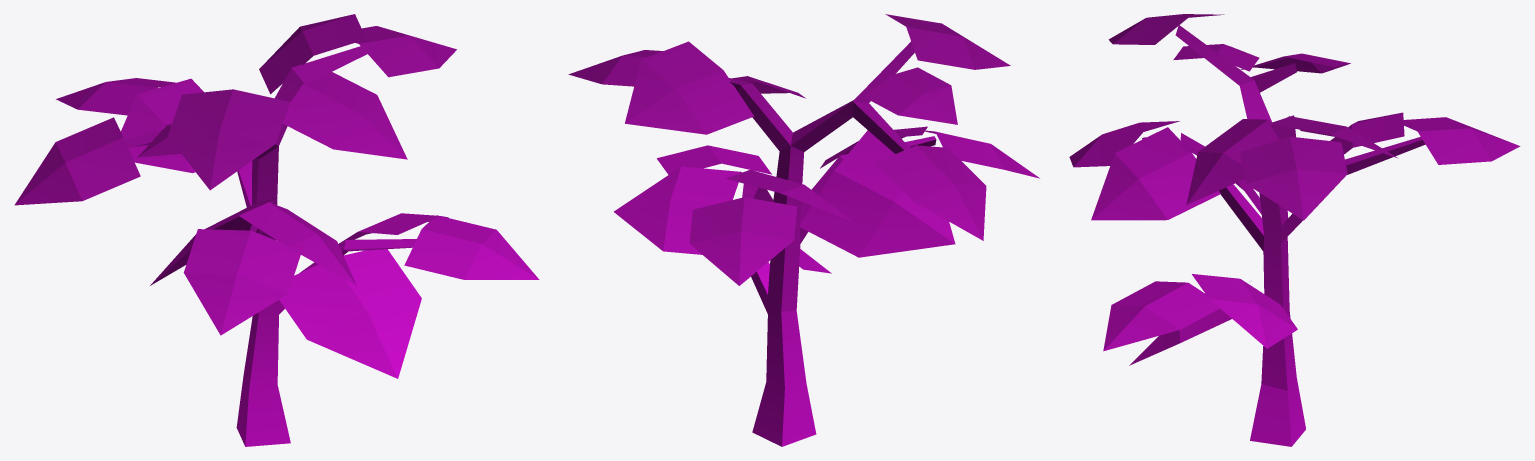
File: SM_Prop_Plant_Bush_03_L.fbx
The picture shows the model from 3 angles, left to right: view 1: azimuth 30°, elevation 25°; view 2: azimuth 150°, elevation 25°; view 3: azimuth 270°, elevation 25°; orthographic projection. The views are drawn at different scales.
Visible parts, largest first — view 1: SM_Prop_Plant_Bush_03_L; view 2: SM_Prop_Plant_Bush_03_L; view 3: SM_Prop_Plant_Bush_03_L.
Boxes of the visible parts, <box> form: SM_Prop_Plant_Bush_03_L: <box>14,14,539,446</box>; SM_Prop_Plant_Bush_03_L: <box>568,14,1039,446</box>; SM_Prop_Plant_Bush_03_L: <box>1069,14,1520,446</box>.
Size of the model in its own units: 106 by 93.45 by 100.
